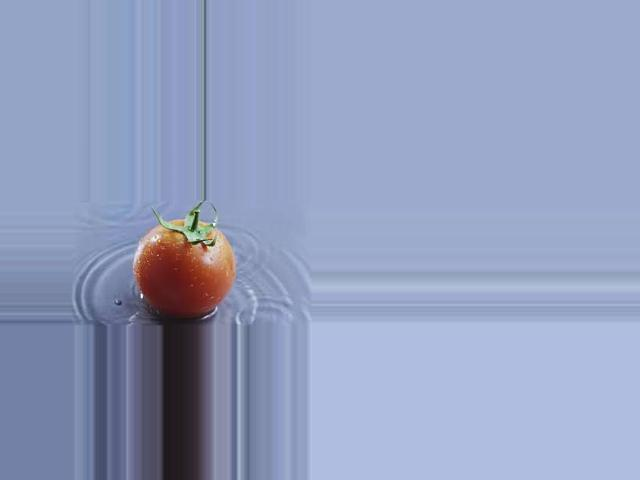tomato: (134, 220, 234, 318)
